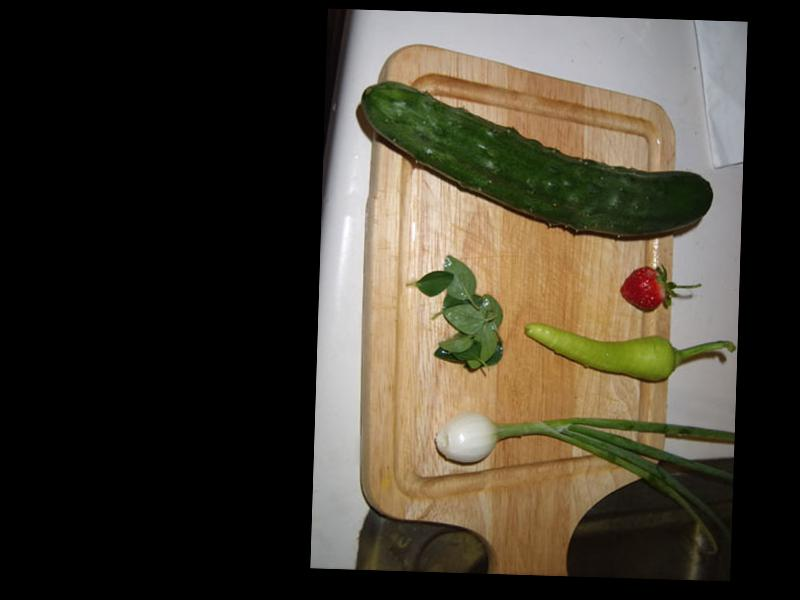Cucumber: (357, 80, 714, 239)
